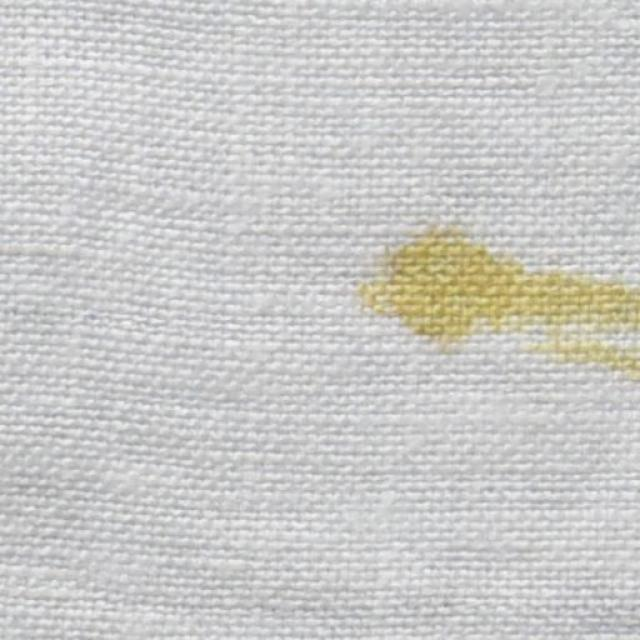Stain: (370, 225, 639, 380)
